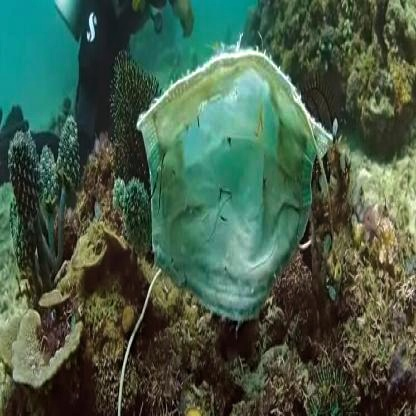Mask: (137, 45, 339, 318)
